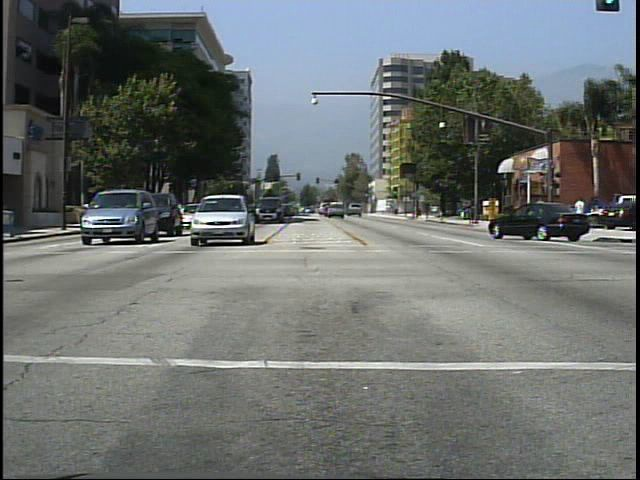person: (573, 193, 593, 237), (532, 192, 550, 231)
